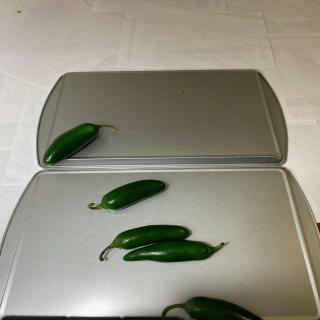Tomato: (99, 224, 192, 262), (42, 122, 116, 166), (88, 179, 166, 211), (162, 296, 264, 320), (123, 240, 225, 262)
